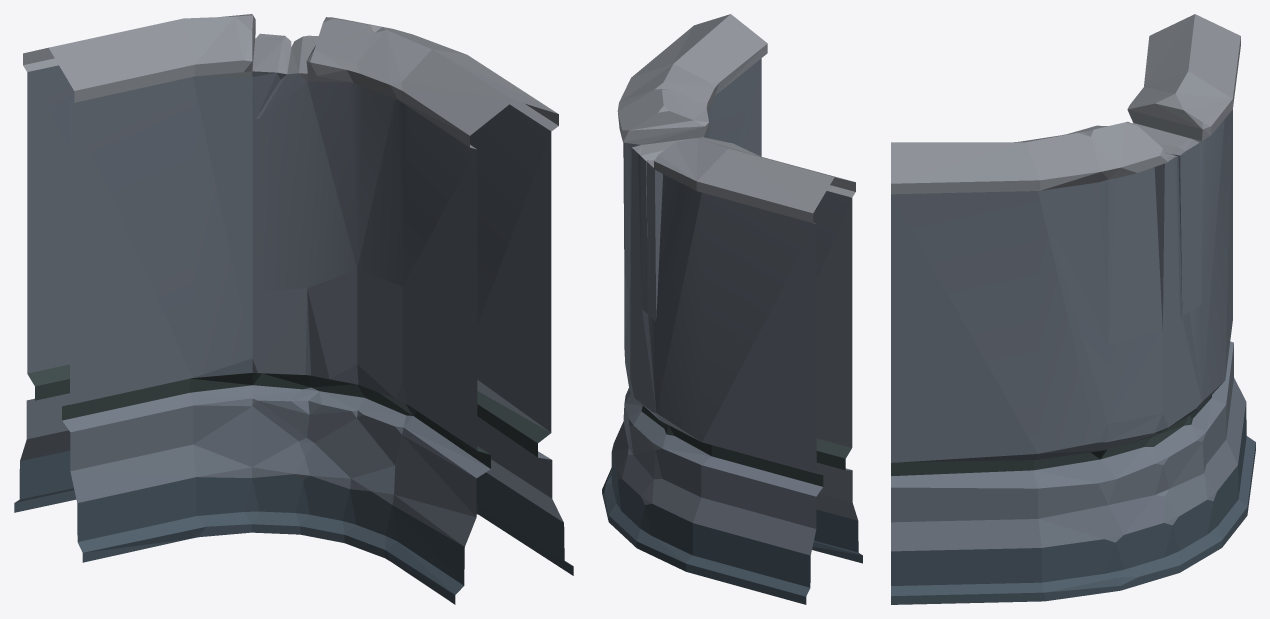
File: RoundCorner2.fbx
The picture shows the model from 3 angles, left to right: view 1: azimuth 30°, elevation 25°; view 2: azimuth 150°, elevation 25°; view 3: azimuth 270°, elevation 25°; orthographic projection. The views are drawn at different scales.
Visible parts, largest first — view 1: RoundCorner2; view 2: RoundCorner2; view 3: RoundCorner2.
Boxes of the visible parts, x1,y1,x2,y2 form: RoundCorner2: (14,14,573,604); RoundCorner2: (602,14,862,604); RoundCorner2: (891,14,1255,604).
Size of the model in its own units: 360 by 476 by 360.
